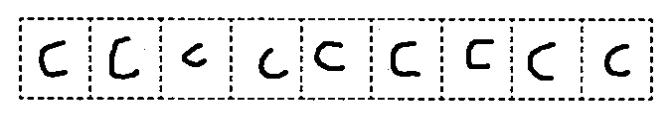C: (104, 31, 146, 82), (34, 34, 74, 80), (523, 39, 562, 83), (310, 37, 352, 77), (384, 39, 424, 81), (252, 44, 292, 84), (600, 40, 636, 82), (460, 35, 498, 72), (174, 37, 212, 72)
